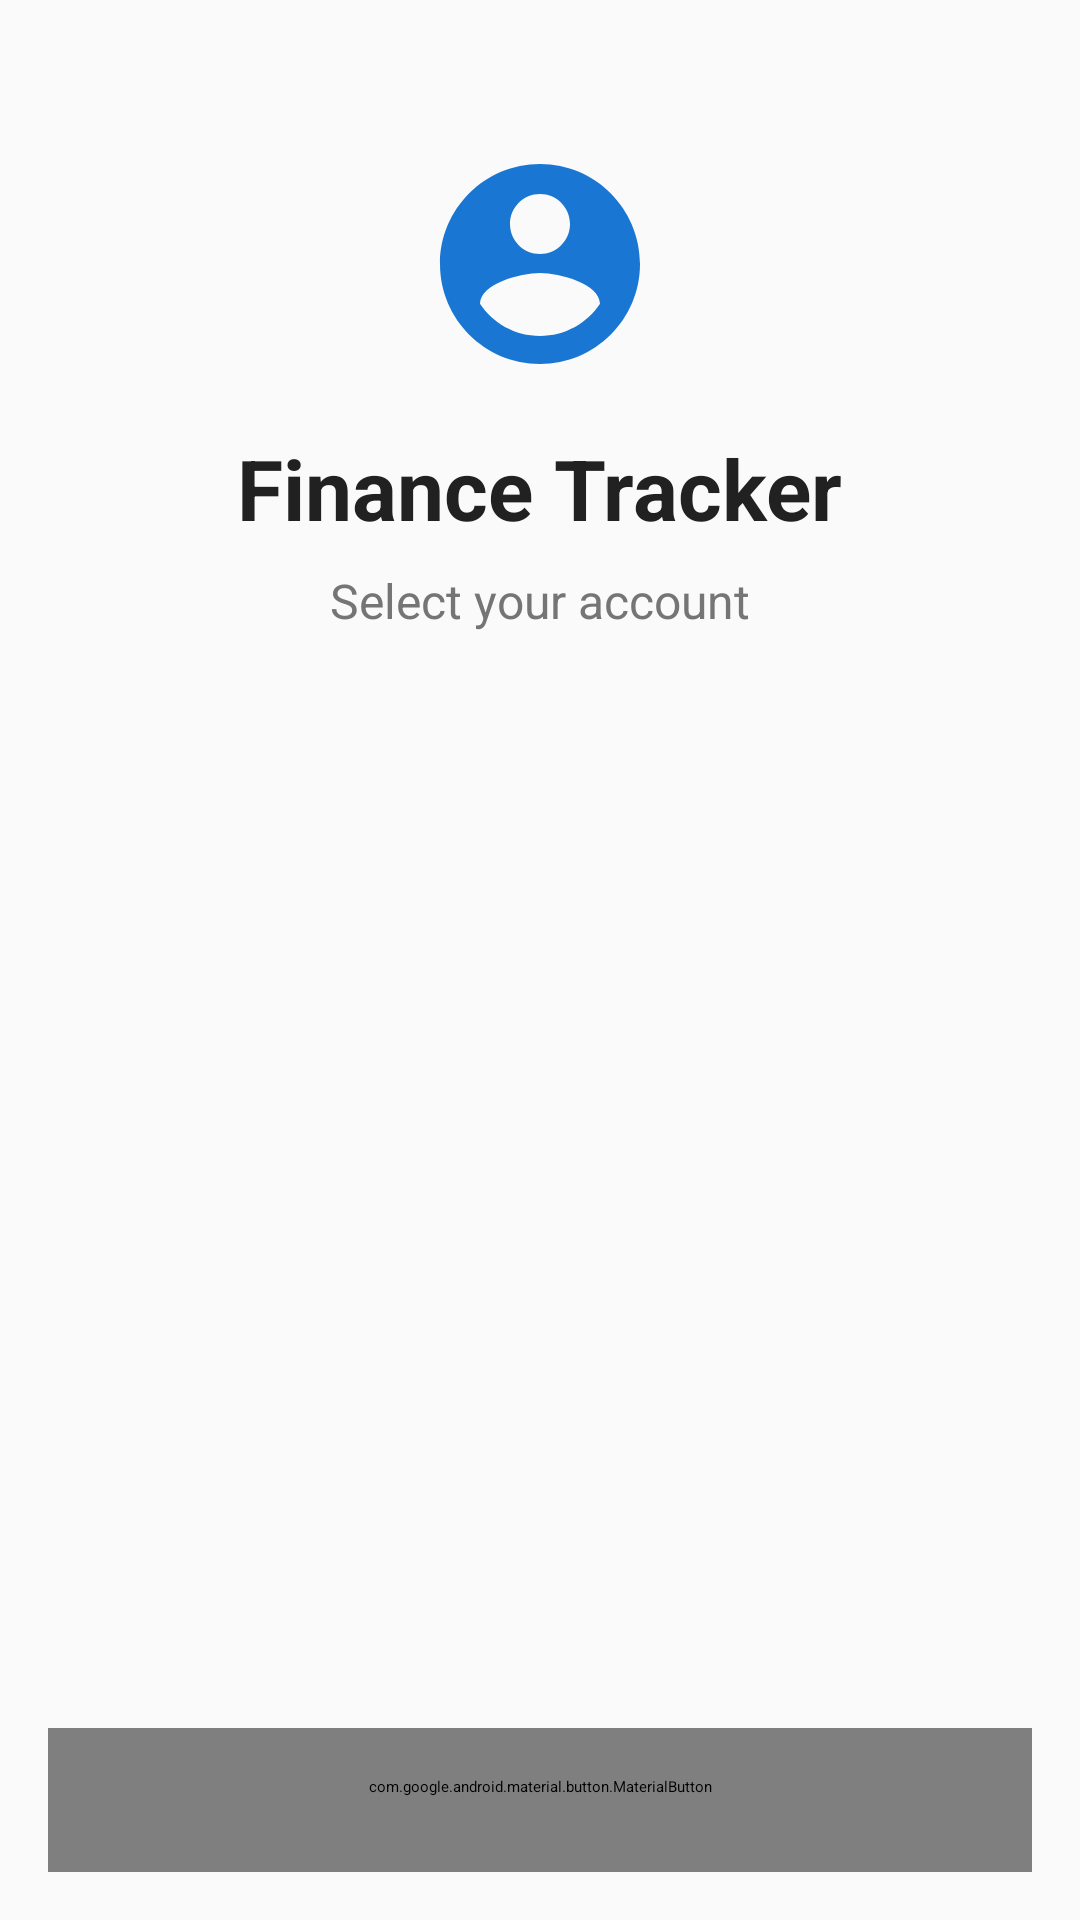

Icons on this 1080px x 1920px Android screen, each with its box as (x1, y1, x2, y2):
account circle: (440, 164, 640, 364)
